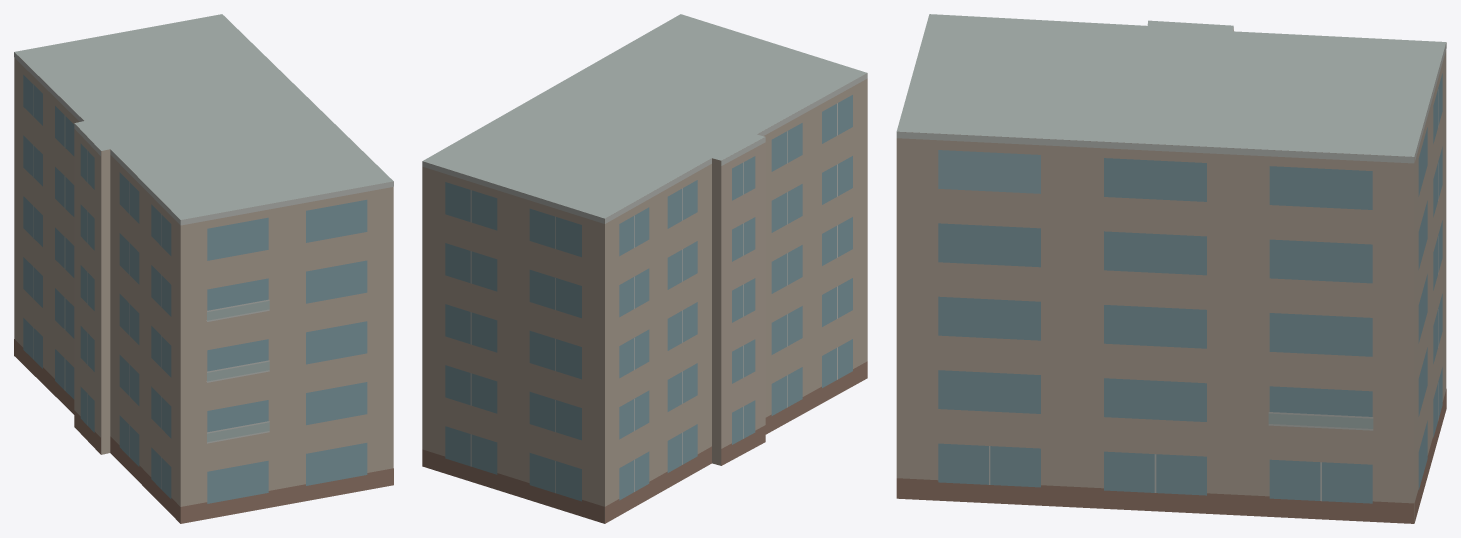
File: survey-upis-32917253.glb
3 views of the same model, side by side, from view 1: azimuth 30°, elevation 25°; view 2: azimuth 150°, elevation 25°; view 3: azimuth 270°, elevation 25° (orthographic). The views are drawn at different scales.
Visible parts, largest first — view 1: survey-upis-32917253.tmp; view 2: survey-upis-32917253.tmp; view 3: survey-upis-32917253.tmp.
Part boxes in pixels (x1,y1,x2,y2): survey-upis-32917253.tmp: (14,14,393,523); survey-upis-32917253.tmp: (422,14,867,523); survey-upis-32917253.tmp: (896,14,1446,523).
Size of the model in its own units: 11.41 by 13.65 by 18.55.
